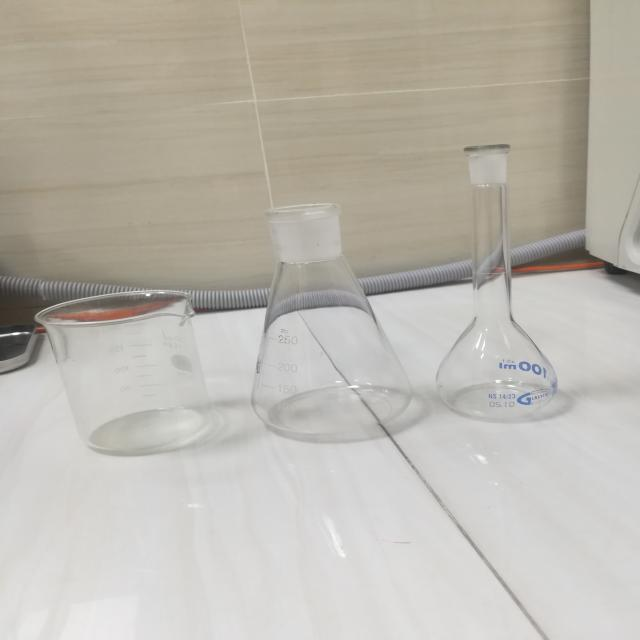Beaker: (16, 252, 237, 465)
Conical_Flask: (248, 194, 421, 445)
Volumetric_Flask: (439, 145, 595, 434)
